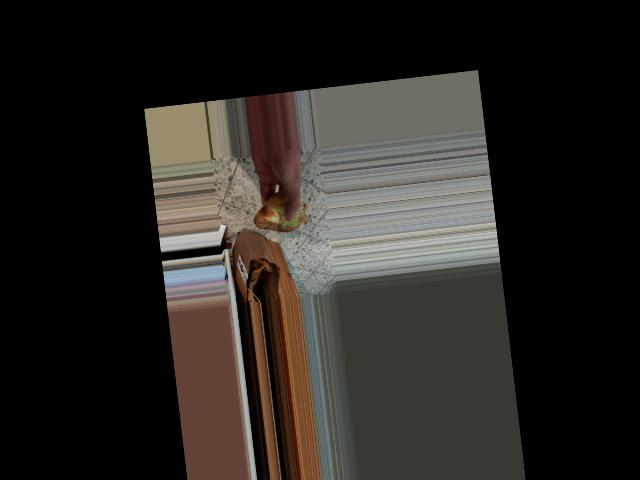onion: (252, 184, 311, 241)
